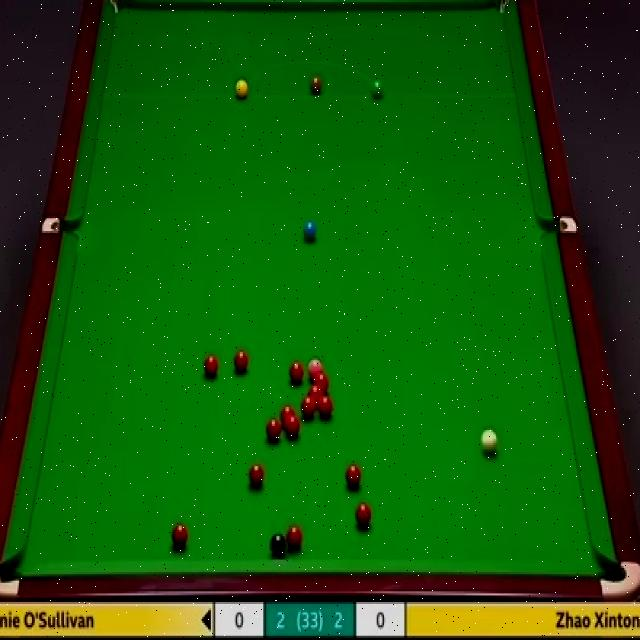black-ball: (271, 531, 285, 558)
blue-ball: (302, 222, 318, 240)
brown-ball: (310, 76, 322, 95)
green-ball: (370, 77, 385, 100)
pink-ball: (308, 358, 323, 380)
red-ball: (286, 522, 304, 553), (344, 462, 362, 488), (171, 525, 189, 549), (355, 503, 372, 528), (312, 371, 329, 396), (286, 362, 305, 384), (247, 464, 265, 487), (233, 346, 249, 371), (203, 356, 220, 377), (266, 417, 280, 442), (318, 395, 333, 416), (286, 415, 300, 436), (280, 406, 294, 426), (301, 396, 315, 416)
white-ball: (480, 427, 500, 457)
yellow-ball: (235, 78, 248, 100)
